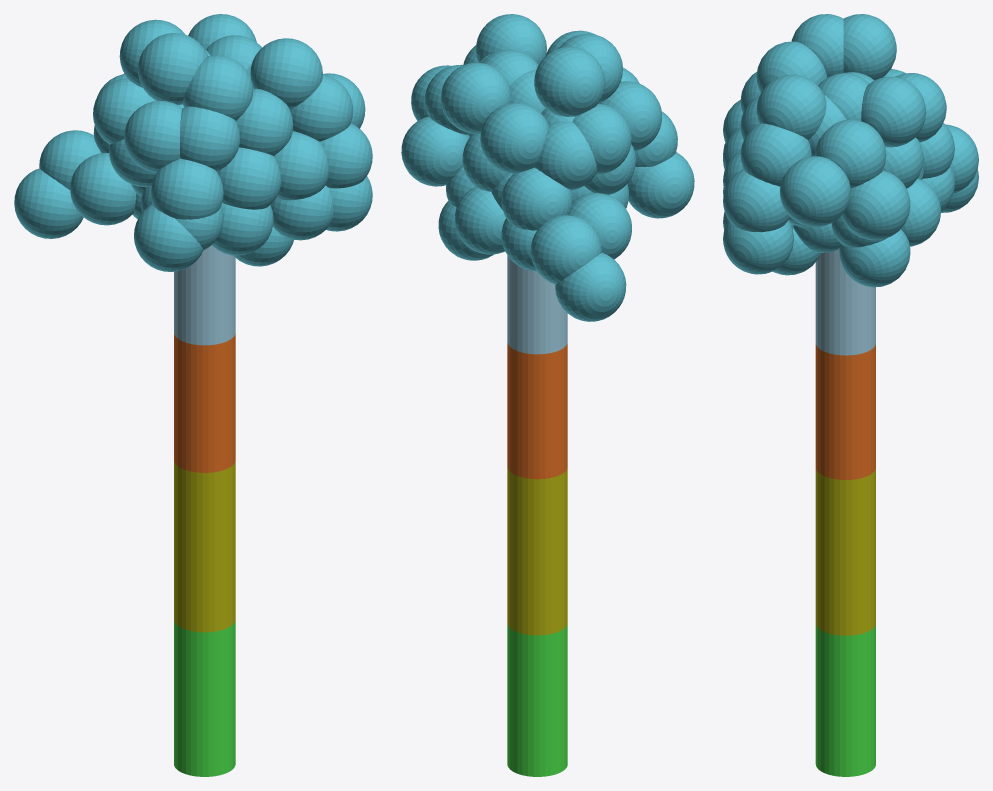
Rendered from SpiritTree.fbx.
3 views of the same model, side by side, from view 1: azimuth 30°, elevation 25°; view 2: azimuth 150°, elevation 25°; view 3: azimuth 270°, elevation 25° (orthographic). The views are drawn at different scales.
Parts seen in each view (by area): view 1: Cylinder, Sphere.034, Sphere.044, Sphere.032, Sphere.052, Sphere.054, Sphere.028, Sphere.033, Sphere.051, Sphere.027, Sphere.045, Sphere.046 (+15 smaller); view 2: Cylinder, Sphere.031, Sphere.023, Sphere.037, Sphere.053, Sphere.054, Sphere.040, Sphere.020, Sphere.051, Sphere.021, Sphere.016, Sphere.029 (+14 smaller); view 3: Cylinder, Sphere.038, Sphere.037, Sphere.040, Sphere.034, Sphere.024, Sphere.025, Sphere.047, Sphere.031, Sphere.048, Sphere.041, Sphere.033 (+16 smaller).
Boxes of the visible parts, x1,y1,x2,y2 form: Cylinder: [174, 245, 235, 776]; Sphere.034: [250, 38, 322, 109]; Sphere.044: [151, 158, 223, 219]; Sphere.032: [138, 33, 207, 104]; Sphere.052: [70, 153, 136, 225]; Sphere.054: [14, 168, 83, 238]; Sphere.028: [124, 100, 182, 172]; Sphere.033: [182, 55, 253, 120]; Sphere.051: [134, 204, 203, 271]; Sphere.027: [180, 106, 240, 171]; Sphere.045: [217, 147, 281, 209]; Sphere.046: [274, 131, 328, 200]; Cylinder: [507, 255, 567, 776]; Sphere.031: [534, 46, 605, 116]; Sphere.023: [480, 103, 548, 173]; Sphere.037: [441, 62, 510, 133]; Sphere.053: [530, 215, 601, 284]; Sphere.054: [555, 252, 626, 321]; Sphere.040: [401, 116, 469, 186]; Sphere.020: [501, 167, 572, 230]; Sphere.051: [628, 152, 694, 218]; Sphere.021: [534, 121, 596, 190]; Sphere.016: [454, 186, 505, 254]; Sphere.029: [572, 103, 631, 174]; Cylinder: [815, 249, 875, 776]; Sphere.038: [780, 156, 850, 226]; Sphere.037: [861, 76, 926, 147]; Sphere.040: [841, 170, 910, 240]; Sphere.034: [756, 74, 826, 139]; Sphere.024: [815, 119, 886, 188]; Sphere.025: [740, 123, 811, 186]; Sphere.047: [723, 169, 789, 232]; Sphere.031: [843, 14, 896, 80]; Sphere.048: [723, 220, 793, 274]; Sphere.041: [839, 229, 910, 287]; Sphere.033: [756, 41, 827, 93].
Size of the model in its own units: 1030 by 2658 by 847.
